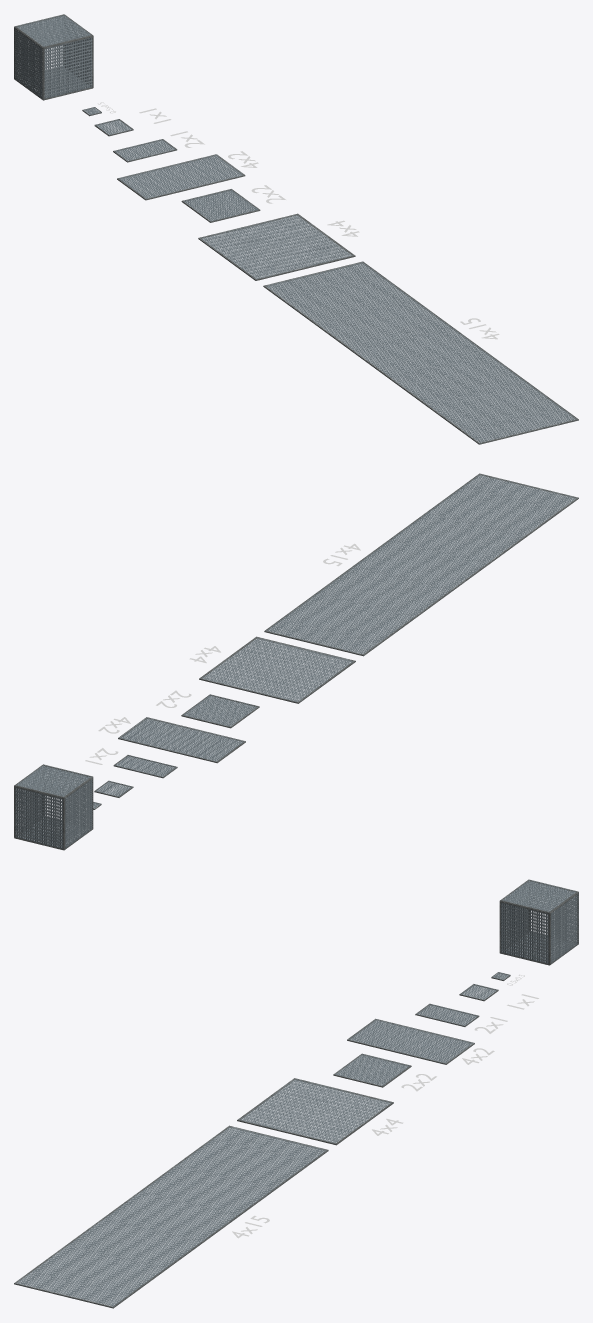
The model's file is MetalGrating.fbx.
The picture shows the model from 3 angles, top to bottom: view 1: azimuth 30°, elevation 25°; view 2: azimuth 150°, elevation 25°; view 3: azimuth 330°, elevation 25°; orthographic projection.
Visible parts, largest first — view 1: 4x15, 4x4, 4x2, 2x2.003, 2x2.005, 2x2, 2x2.006, 2x1; view 2: 4x15, 4x4, 4x2, 2x2.002, 2x2.005, 2x2, 2x2.006, 2x1; view 3: 4x15, 4x4, 4x2, 2x2.003, 2x2.004, 2x2, 2x2.006, 2x1.
Part boxes in pixels (<box>): 4x15: <box>263,261,578,444</box>; 4x4: <box>198,213,355,280</box>; 4x2: <box>117,154,245,200</box>; 2x2.003: <box>43,36,93,100</box>; 2x2.005: <box>14,27,43,99</box>; 2x2: <box>181,189,260,222</box>; 2x2.006: <box>14,14,92,47</box>; 2x1: <box>113,139,177,162</box>; 4x15: <box>264,473,578,656</box>; 4x4: <box>199,636,355,703</box>; 4x2: <box>118,717,245,763</box>; 2x2.002: <box>14,786,64,849</box>; 2x2.005: <box>64,777,93,849</box>; 2x2: <box>181,694,259,728</box>; 2x2.006: <box>14,764,92,797</box>; 2x1: <box>113,755,177,778</box>; 4x15: <box>14,1125,328,1308</box>; 4x4: <box>237,1078,393,1145</box>; 4x2: <box>347,1018,474,1064</box>; 2x2.003: <box>499,901,549,965</box>; 2x2.004: <box>549,892,578,964</box>; 2x2: <box>333,1053,411,1087</box>; 2x2.006: <box>500,879,578,912</box>; 2x1: <box>415,1003,479,1026</box>.
Size of the model in its own units: 514 by 204 by 3410.
